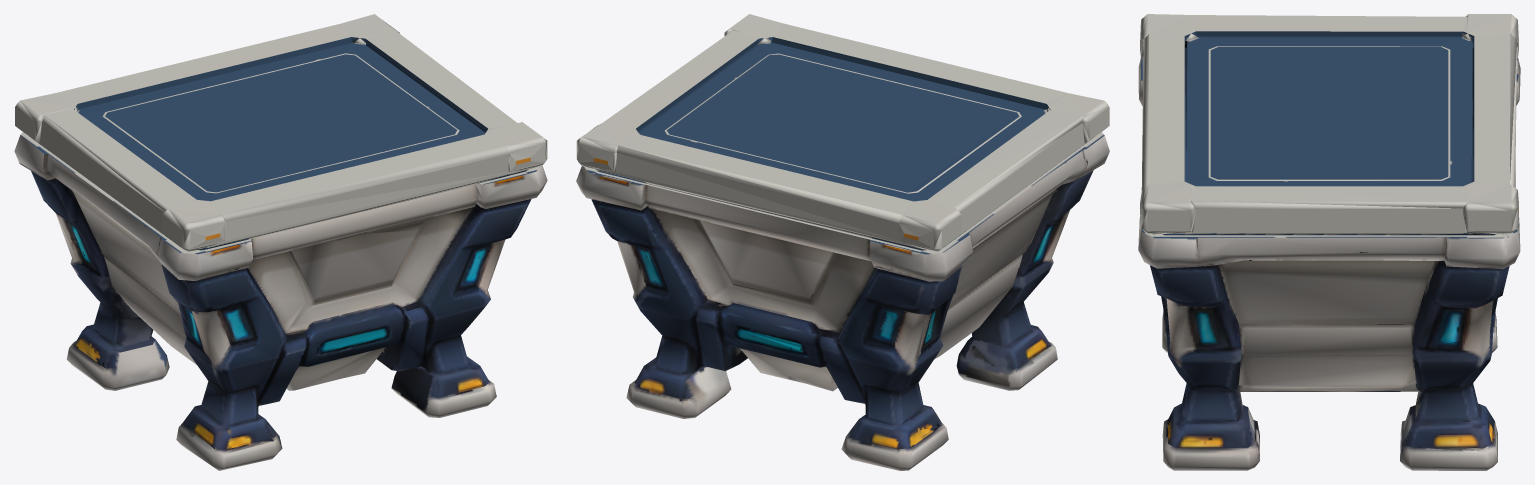
Rendered from industrial-parts-hopper_LOD1.glb.
3 renders of one model, left to right at view 1: azimuth 30°, elevation 25°; view 2: azimuth 150°, elevation 25°; view 3: azimuth 270°, elevation 25°, orthographic. The views are drawn at different scales.
Visible parts, largest first — view 1: industrial-parts-hopper_LOD1; view 2: industrial-parts-hopper_LOD1; view 3: industrial-parts-hopper_LOD1.
Part boxes in pixels (x1=…): industrial-parts-hopper_LOD1: x1=14, y1=14, x2=547, y2=470; industrial-parts-hopper_LOD1: x1=576, y1=14, x2=1109, y2=470; industrial-parts-hopper_LOD1: x1=1138, y1=14, x2=1520, y2=470.
Bounding box in the file's own units: 1.82 × 1.25 × 1.5.
Materials: 1 (1 with a texture image).
